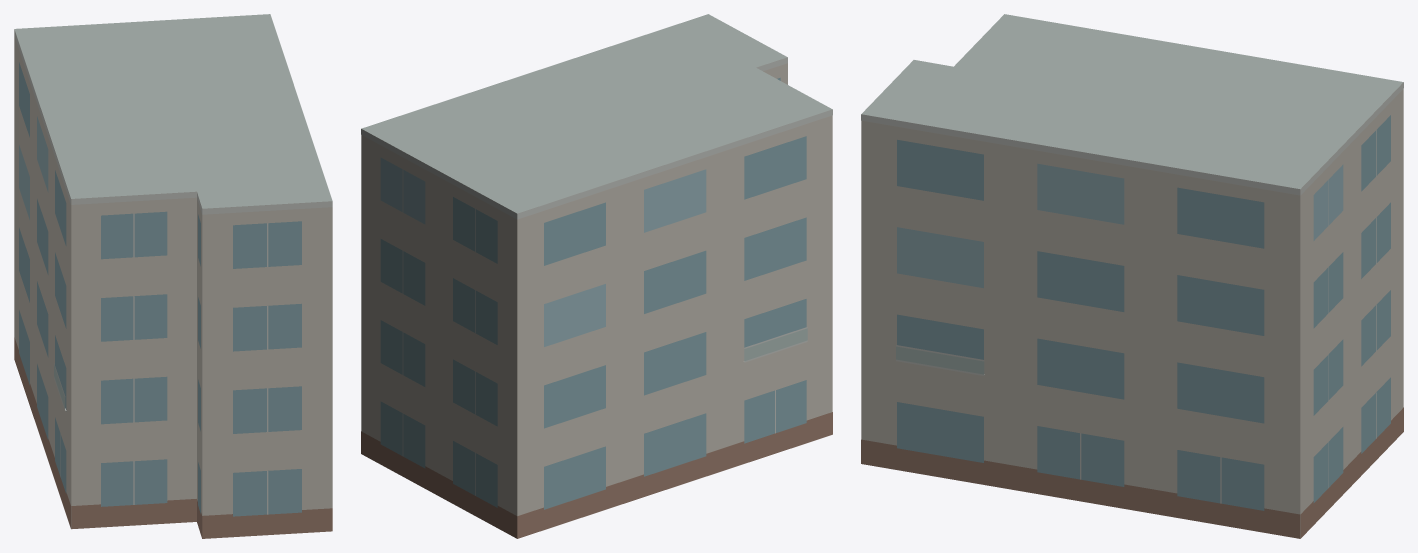
Rendered from survey-upis-32694708.glb.
The picture shows the model from 3 angles, left to right: view 1: azimuth 30°, elevation 25°; view 2: azimuth 150°, elevation 25°; view 3: azimuth 270°, elevation 25°; orthographic projection. The views are drawn at different scales.
Parts seen in each view (by area): view 1: survey-upis-32694708.tmp; view 2: survey-upis-32694708.tmp; view 3: survey-upis-32694708.tmp.
Part boxes in pixels (x1,y1,x2,y2): survey-upis-32694708.tmp: (14,14,332,538); survey-upis-32694708.tmp: (361,14,832,538); survey-upis-32694708.tmp: (861,14,1403,538).
Bounding box in the file's own units: 14.41 × 13.4 × 18.85.
